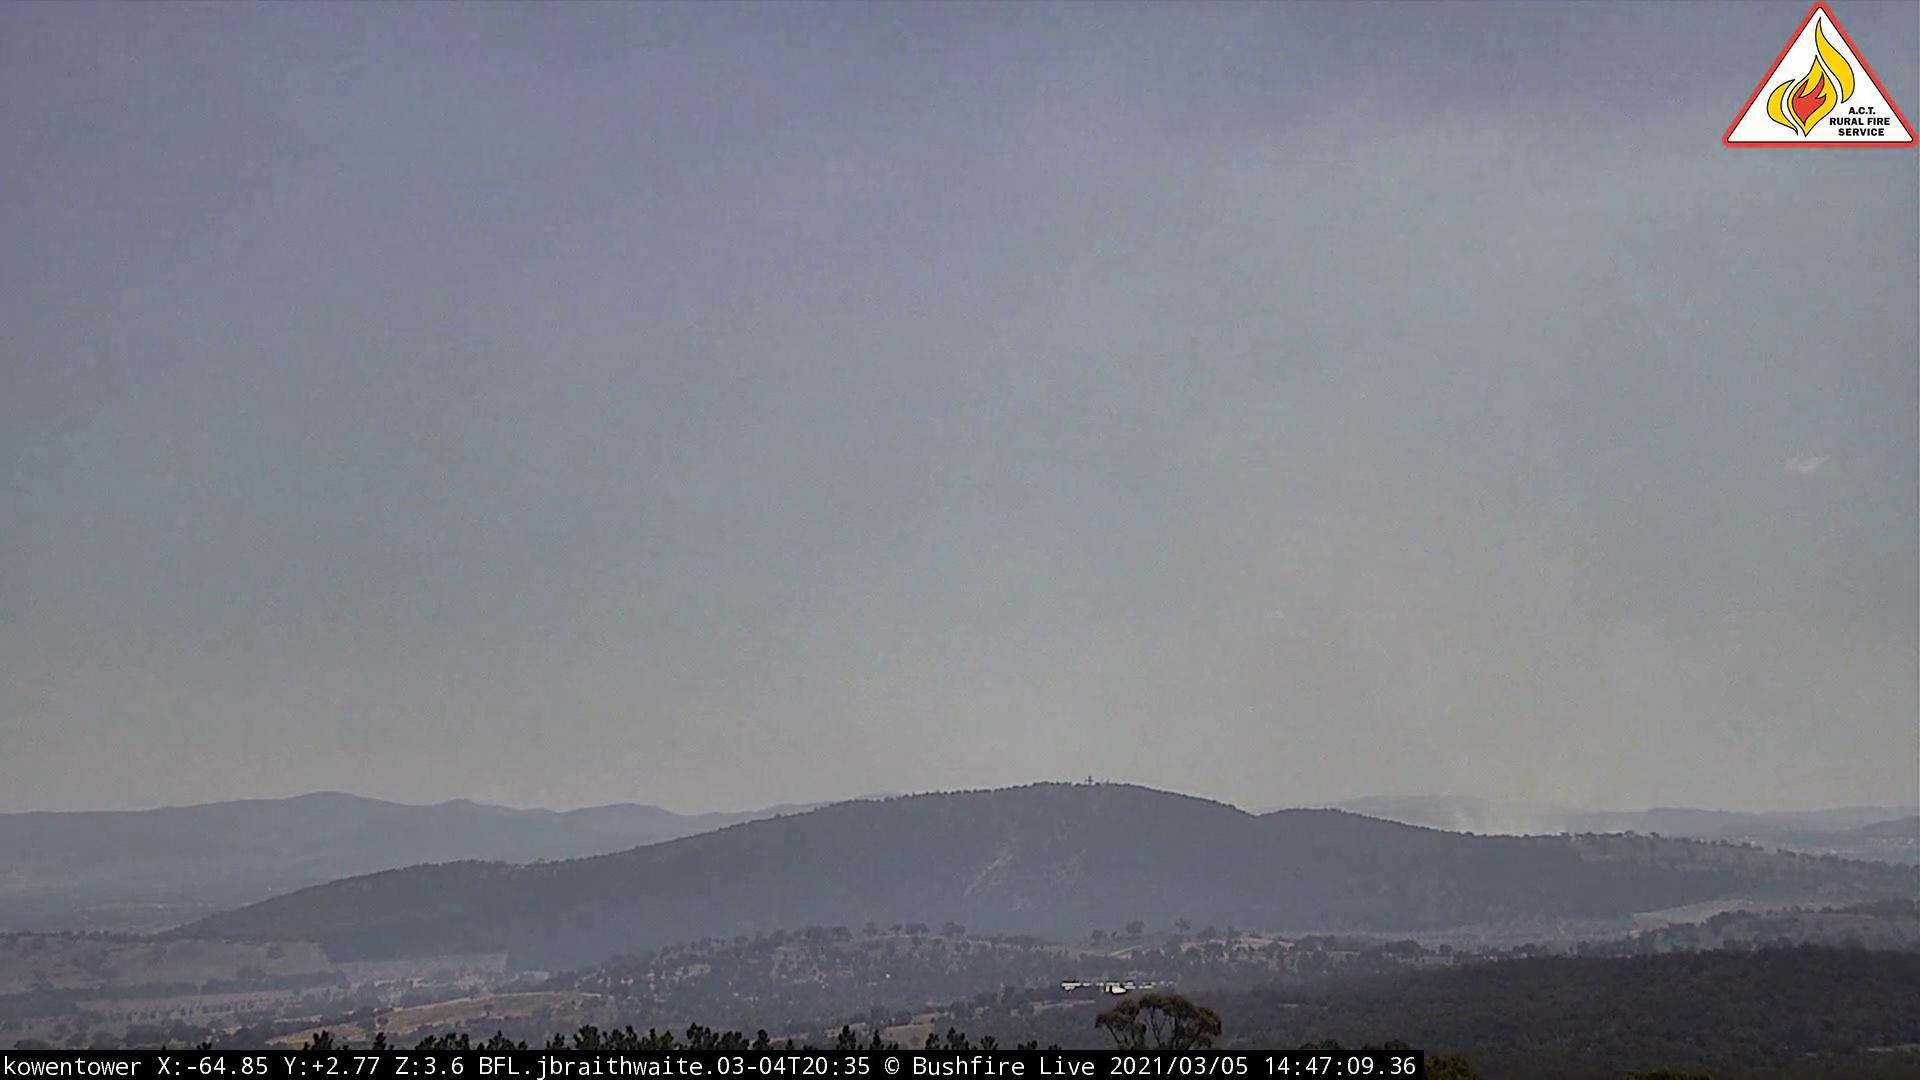Smoke: (1291, 522, 1714, 848)
